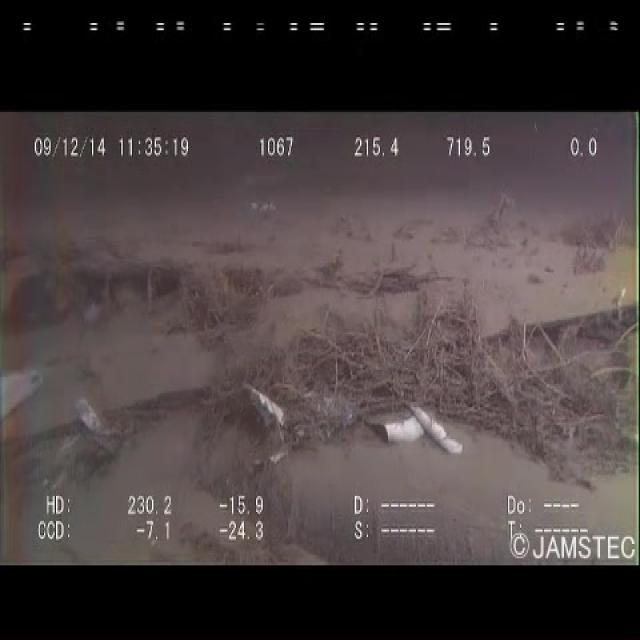plastic: (237, 373, 340, 462), (361, 390, 472, 470), (68, 384, 123, 448)
